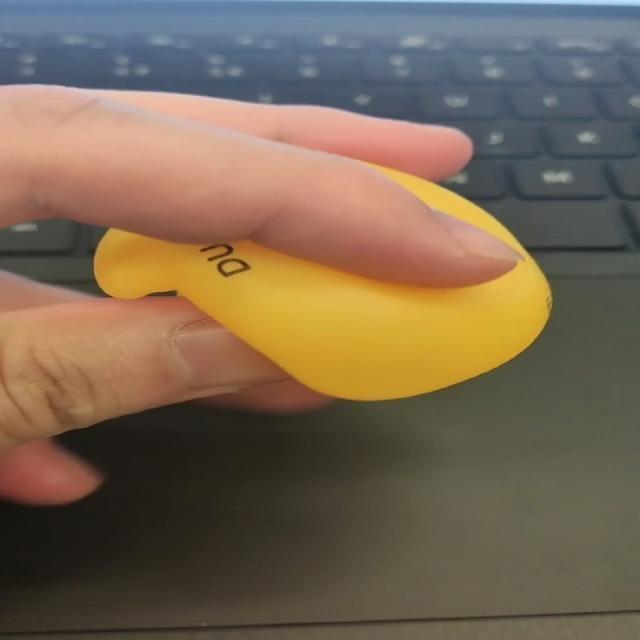rubber-duck: (93, 165, 550, 399)
